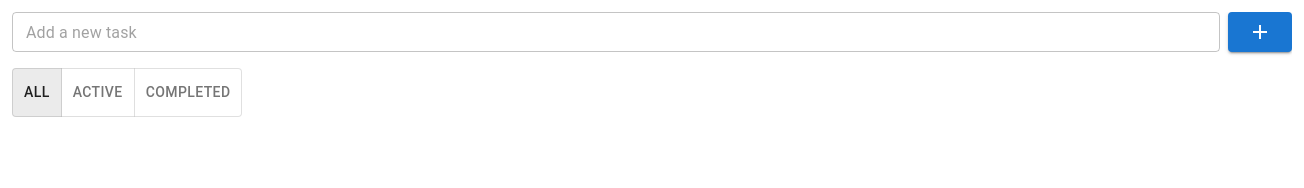
Test: TodoWidget › adds a new todo
The width and height of the screenshot is (1304, 188).
Type "New Todo" into the field with placeholder "Add a new task". click: (616, 32)
box: x1=12 y1=12 x2=1220 y2=52
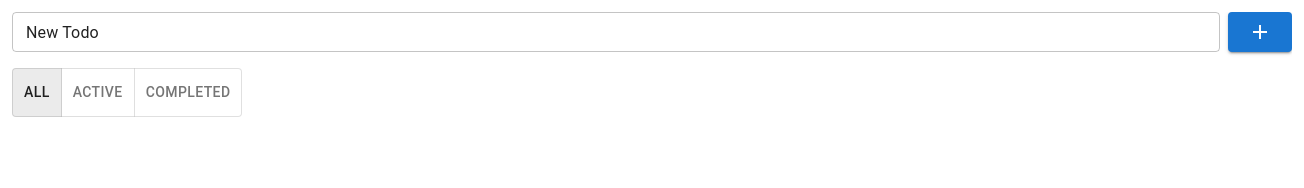
Click the button named "Add todo". click: (1260, 32)
box: x1=1228 y1=12 x2=1292 y2=52
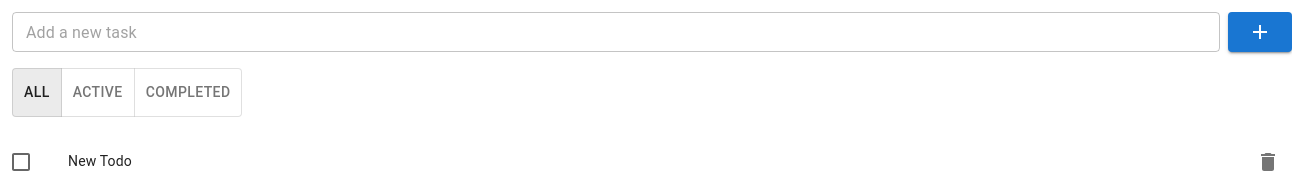
Expected: the text "New Todo" is shown, x1=68 y1=154 x2=132 y2=170
